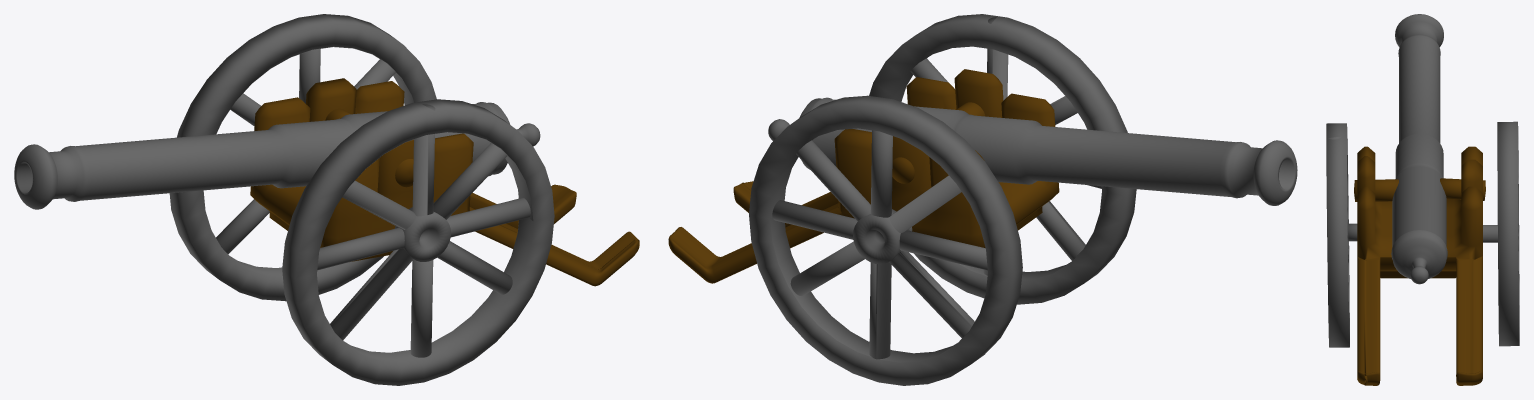
Rendered from Cañon Con Soporte.fbx.
3 views of the same model, side by side, from view 1: azimuth 30°, elevation 25°; view 2: azimuth 150°, elevation 25°; view 3: azimuth 270°, elevation 25° (orthographic). The views are drawn at different scales.
Visible parts, largest first — view 1: Catapulta; view 2: Catapulta; view 3: Catapulta.
Part boxes in pixels (x1=…): Catapulta: x1=14, y1=14, x2=639, y2=385; Catapulta: x1=668, y1=14, x2=1297, y2=385; Catapulta: x1=1326, y1=14, x2=1519, y2=385.
Size of the model in its own units: 1806 by 2112 by 4702.
